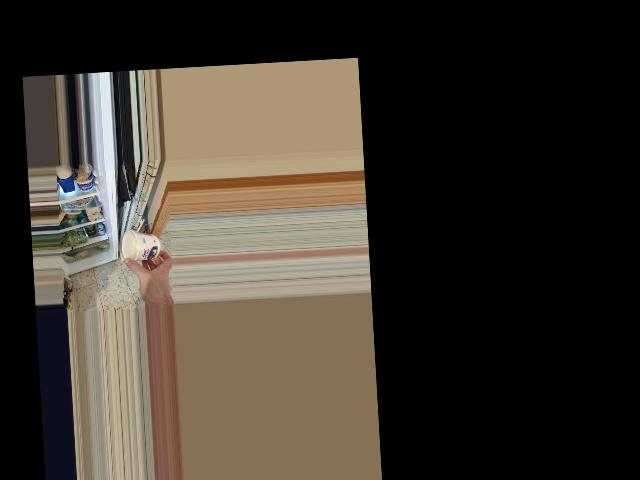cotage: (119, 229, 159, 263)
